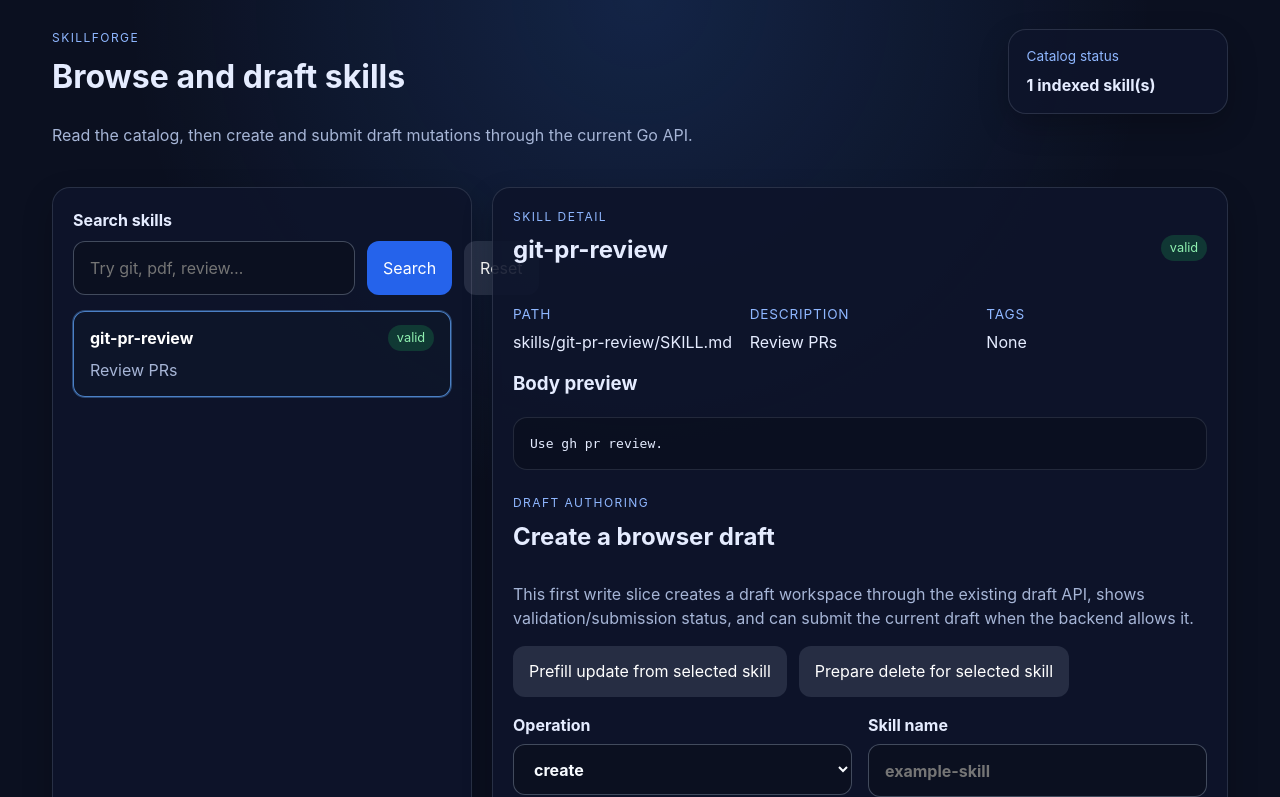
it: App › creates delete drafts without sending content
Expected: the text "Use gh pr review." is shown, top-left (513, 417), bottom-right (1207, 470)
Click the button "Prepare delete for selected skill": [934, 672] box top-left (799, 646), bottom-right (1069, 697)
(page scrolled)
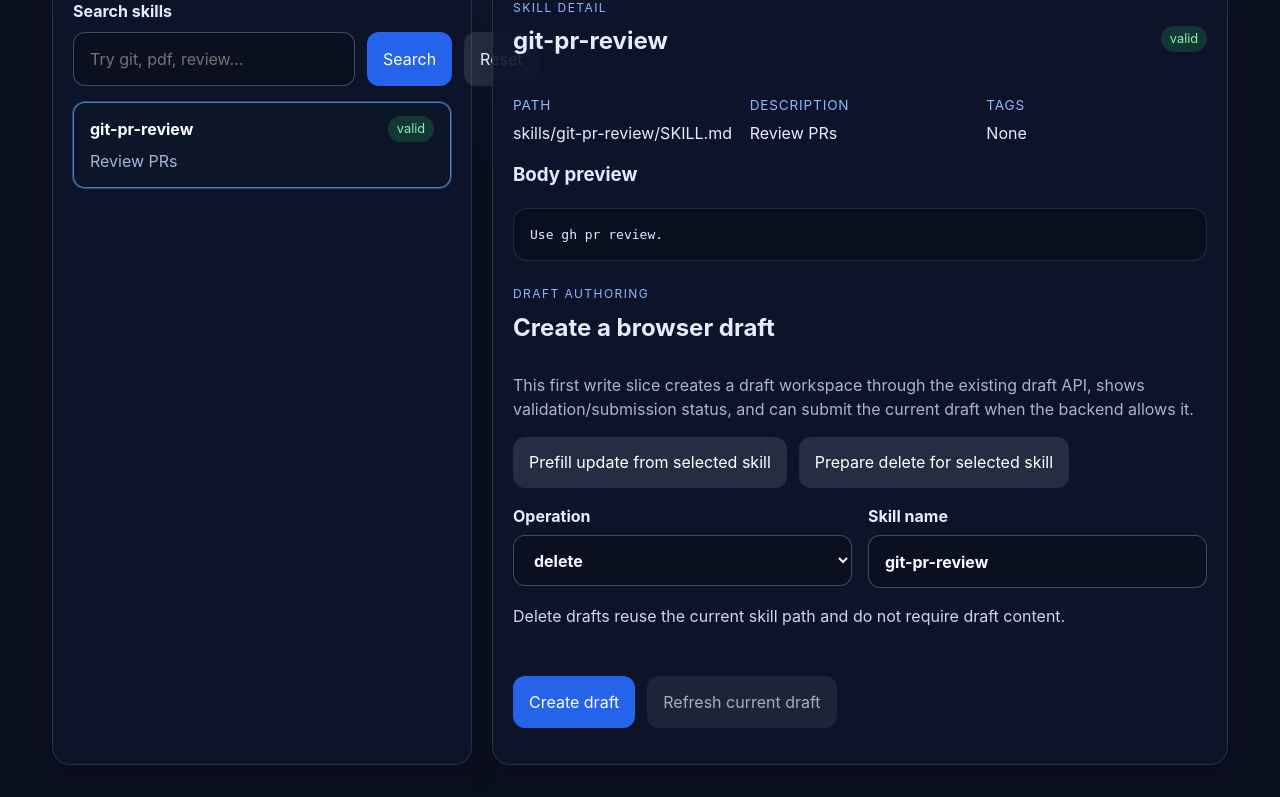
Click the button "Create draft": [574, 702] box top-left (513, 676), bottom-right (635, 728)
(page scrolled)
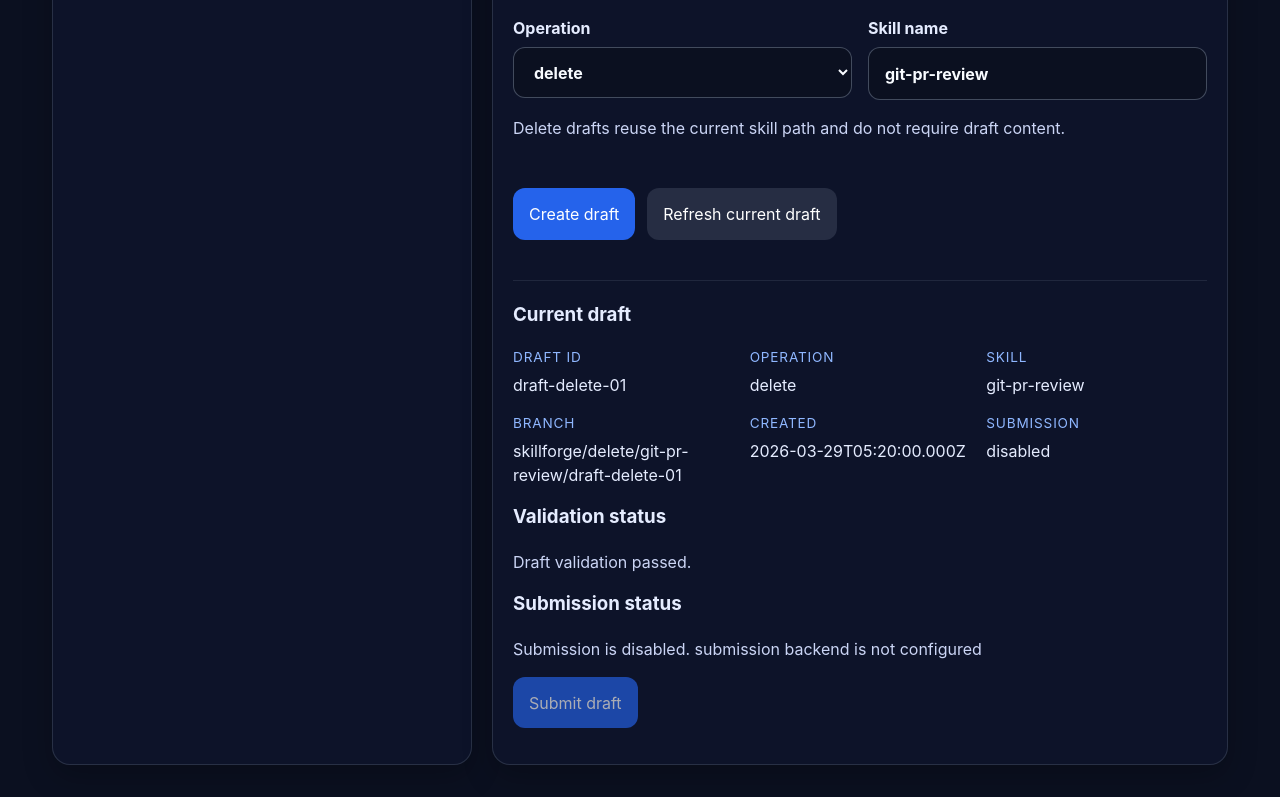
Expected: the text "draft-delete-01" is shown, top-left (513, 375), bottom-right (626, 395)
Expected: the text "Submission is disabled. submission backend is not configured" is shown, top-left (513, 639), bottom-right (982, 659)
